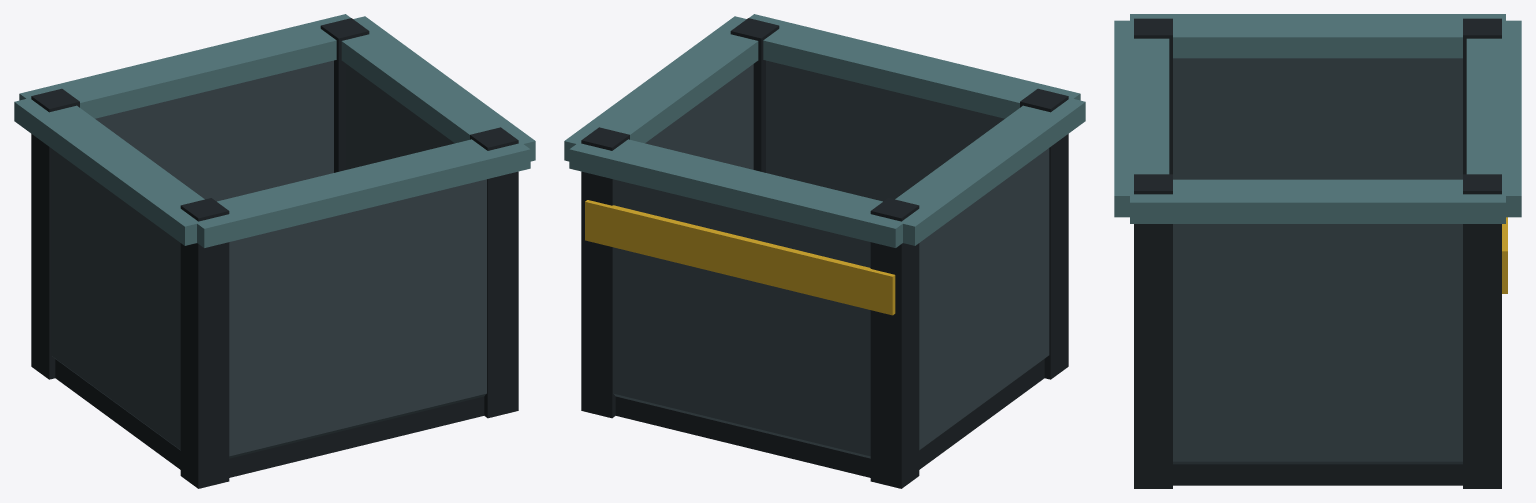
The model's file is Env_Bin.fbx.
3 views of the same model, side by side, from view 1: azimuth 30°, elevation 25°; view 2: azimuth 150°, elevation 25°; view 3: azimuth 270°, elevation 25° (orthographic). The views are drawn at different scales.
Visible parts, largest first — view 1: Env_Bin; view 2: Env_Bin; view 3: Env_Bin.
Boxes of the visible parts, left/top/right/bottom form: Env_Bin: left=14, top=14, right=535, bottom=488; Env_Bin: left=564, top=14, right=1085, bottom=488; Env_Bin: left=1114, top=14, right=1521, bottom=488.
Bounding box in the file's own units: 1.14 × 1.04 × 0.84.
